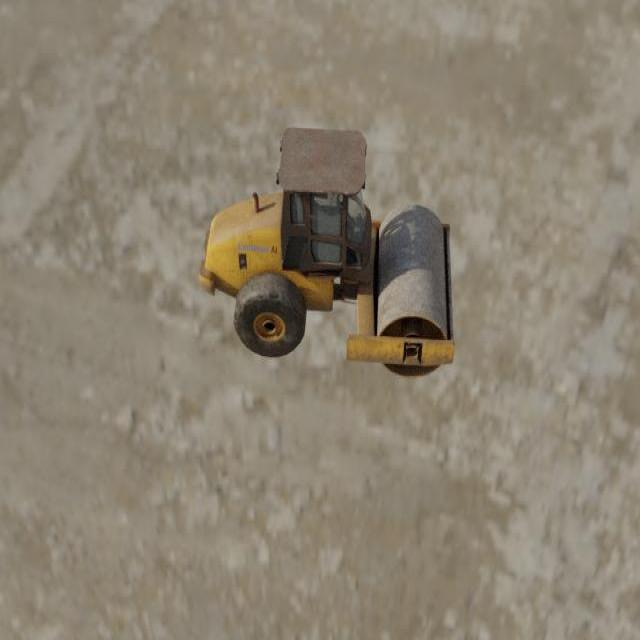Roller: (198, 125, 455, 379)
